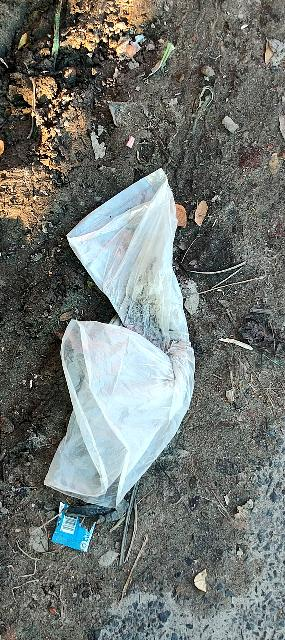polythene: (31, 179, 196, 516)
